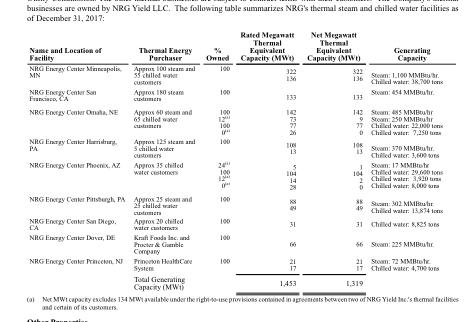table: (28, 28, 441, 290)
table column: (28, 28, 128, 290), (366, 28, 441, 290), (128, 28, 199, 290), (234, 28, 300, 290), (300, 28, 366, 290), (199, 28, 234, 290)
table column header: (28, 28, 441, 62)
table row: (28, 28, 441, 62), (28, 158, 441, 192), (28, 104, 441, 136), (28, 62, 441, 86), (28, 231, 441, 255), (28, 192, 441, 215), (28, 136, 441, 158), (28, 86, 441, 104), (28, 272, 441, 290), (28, 255, 441, 272), (28, 215, 441, 231)
table spanning cell: (28, 255, 128, 290)
